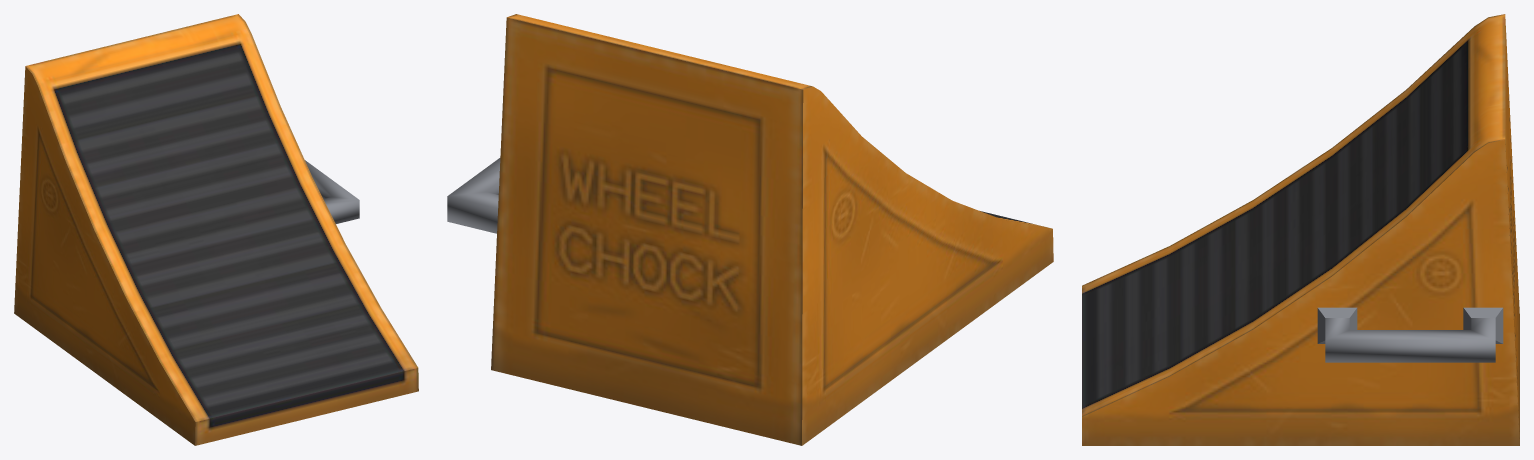
The model's file is wheel-chock-body.glb.
3 renders of one model, left to right at view 1: azimuth 30°, elevation 25°; view 2: azimuth 150°, elevation 25°; view 3: azimuth 270°, elevation 25°, orthographic. The views are drawn at different scales.
Parts seen in each view (by area): view 1: Wheel-chock-bodyBody; view 2: Wheel-chock-bodyBody; view 3: Wheel-chock-bodyBody.
Part boxes in pixels (x1,y1,x2,y2): Wheel-chock-bodyBody: (14,14,418,445); Wheel-chock-bodyBody: (447,14,1053,445); Wheel-chock-bodyBody: (1082,14,1519,445).
Size of the model in its own units: 0.3046 by 0.275 by 0.36.
Materials: 1 (1 with a texture image).
